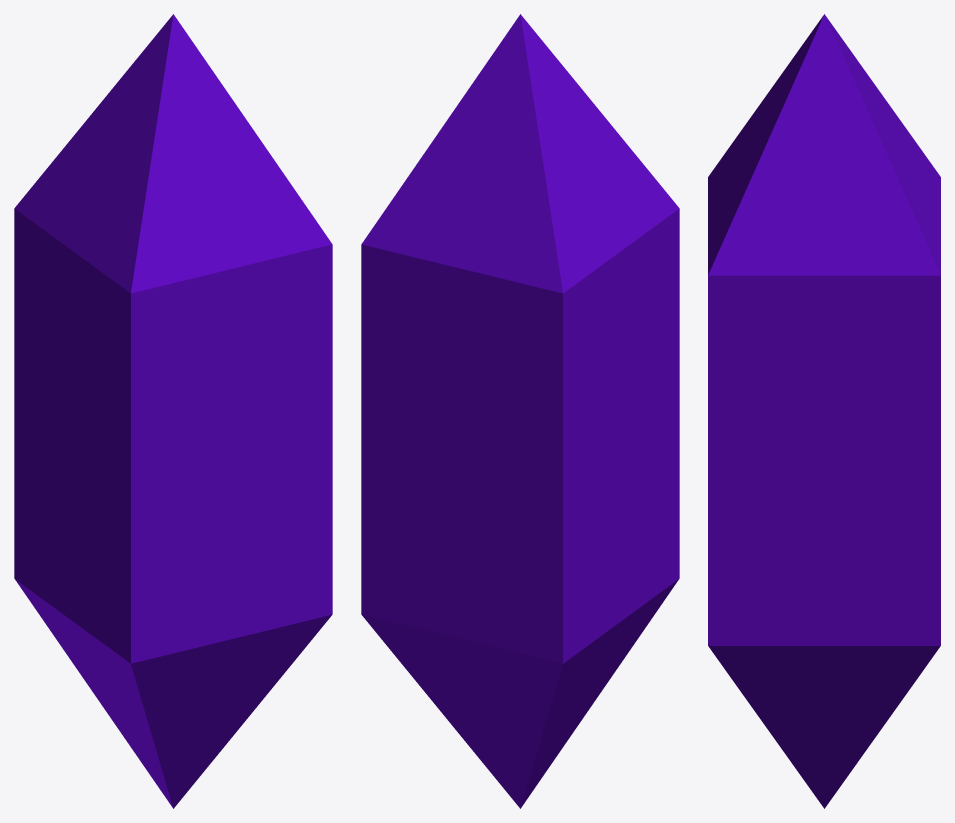
Rendered from left_arm_upper.obj.
The picture shows the model from 3 angles, left to right: view 1: azimuth 30°, elevation 25°; view 2: azimuth 150°, elevation 25°; view 3: azimuth 270°, elevation 25°; orthographic projection.
Parts seen in each view (by area): view 1: left_arm_upper; view 2: left_arm_upper; view 3: left_arm_upper.
Part boxes in pixels (x1,y1,x2,y2): left_arm_upper: (14,14,332,808); left_arm_upper: (361,14,679,808); left_arm_upper: (708,14,940,808).
Size of the model in its own units: 0.499 by 1.88 by 0.499.
